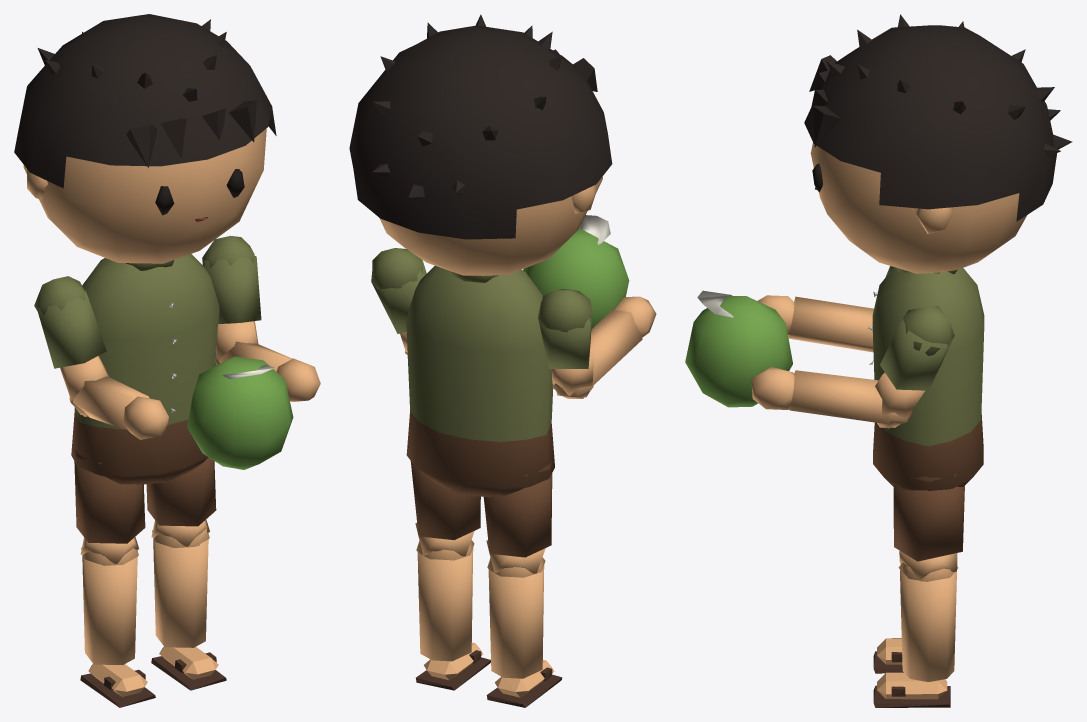
The model's file is south_coconut_boy.glb.
3 renders of one model, left to right at view 1: azimuth 30°, elevation 25°; view 2: azimuth 150°, elevation 25°; view 3: azimuth 270°, elevation 25°, orthographic.
Parts seen in each view (by area): view 1: head, body, prop_coconut, shin_L, shin_R, arm_R, leg_R, arm_L, leg_L, forearm_R, forearm_L; view 2: head, body, shin_L, shin_R, prop_coconut, leg_R, arm_R, leg_L, forearm_R, arm_L; view 3: head, body, prop_coconut, shin_L, leg_L, arm_L, forearm_L, forearm_R, shin_R.
Boxes of the visible parts, x1,y1,x2,y2 form: head: [14, 14, 276, 263]; body: [71, 254, 219, 484]; prop_coconut: [187, 356, 293, 469]; shin_L: [151, 528, 226, 690]; shin_R: [80, 547, 155, 707]; arm_R: [34, 276, 108, 416]; leg_R: [74, 449, 145, 565]; arm_L: [202, 235, 261, 364]; leg_L: [146, 457, 216, 547]; forearm_R: [71, 376, 168, 439]; forearm_L: [217, 341, 320, 401]; head: [349, 14, 612, 275]; body: [406, 266, 554, 497]; shin_L: [416, 544, 490, 690]; shin_R: [486, 558, 562, 707]; prop_coconut: [523, 215, 629, 329]; leg_R: [483, 461, 552, 577]; arm_R: [538, 289, 593, 398]; leg_L: [408, 445, 480, 560]; forearm_R: [554, 296, 656, 397]; arm_L: [371, 248, 426, 354]; head: [804, 14, 1072, 273]; body: [868, 267, 984, 490]; prop_coconut: [685, 290, 792, 407]; shin_L: [873, 565, 956, 707]; leg_L: [893, 474, 964, 581]; arm_L: [875, 306, 954, 427]; forearm_L: [751, 366, 912, 428]; forearm_R: [757, 295, 873, 352]; shin_R: [873, 638, 903, 673].
Bounding box in the file's own units: 0.4881 × 1.31 × 0.7131.
